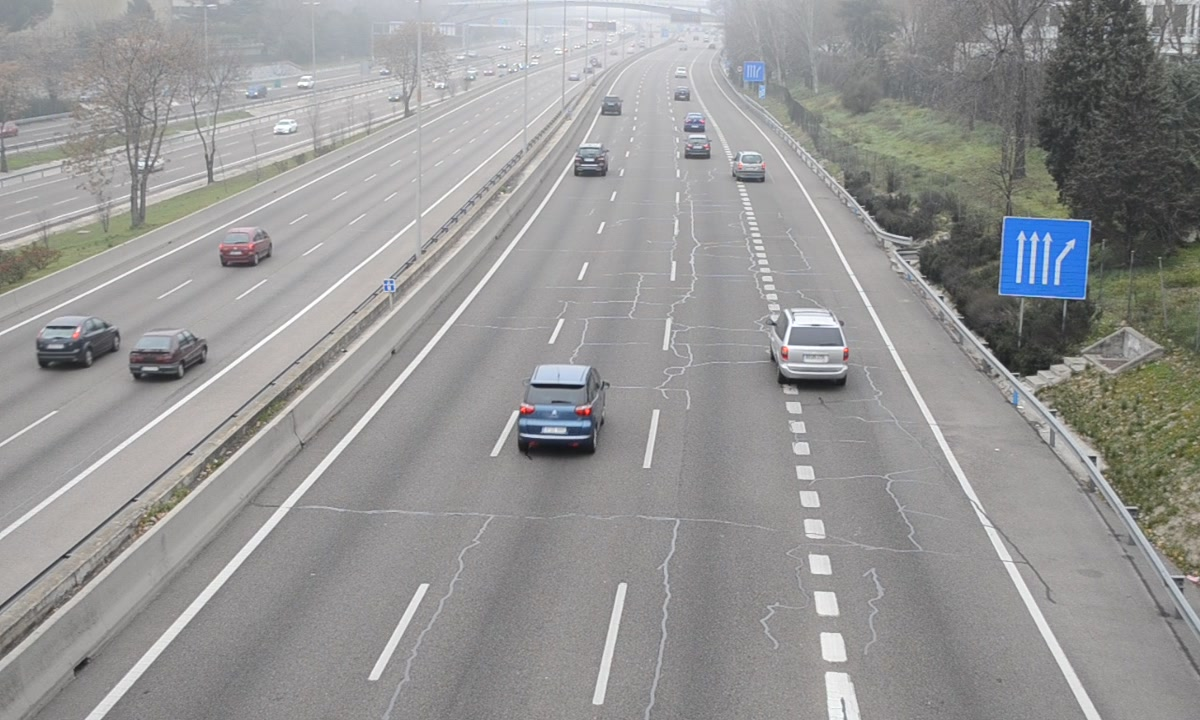car: (516, 366, 606, 448), (770, 310, 847, 380), (575, 142, 608, 178), (732, 150, 766, 184), (684, 133, 712, 160)
